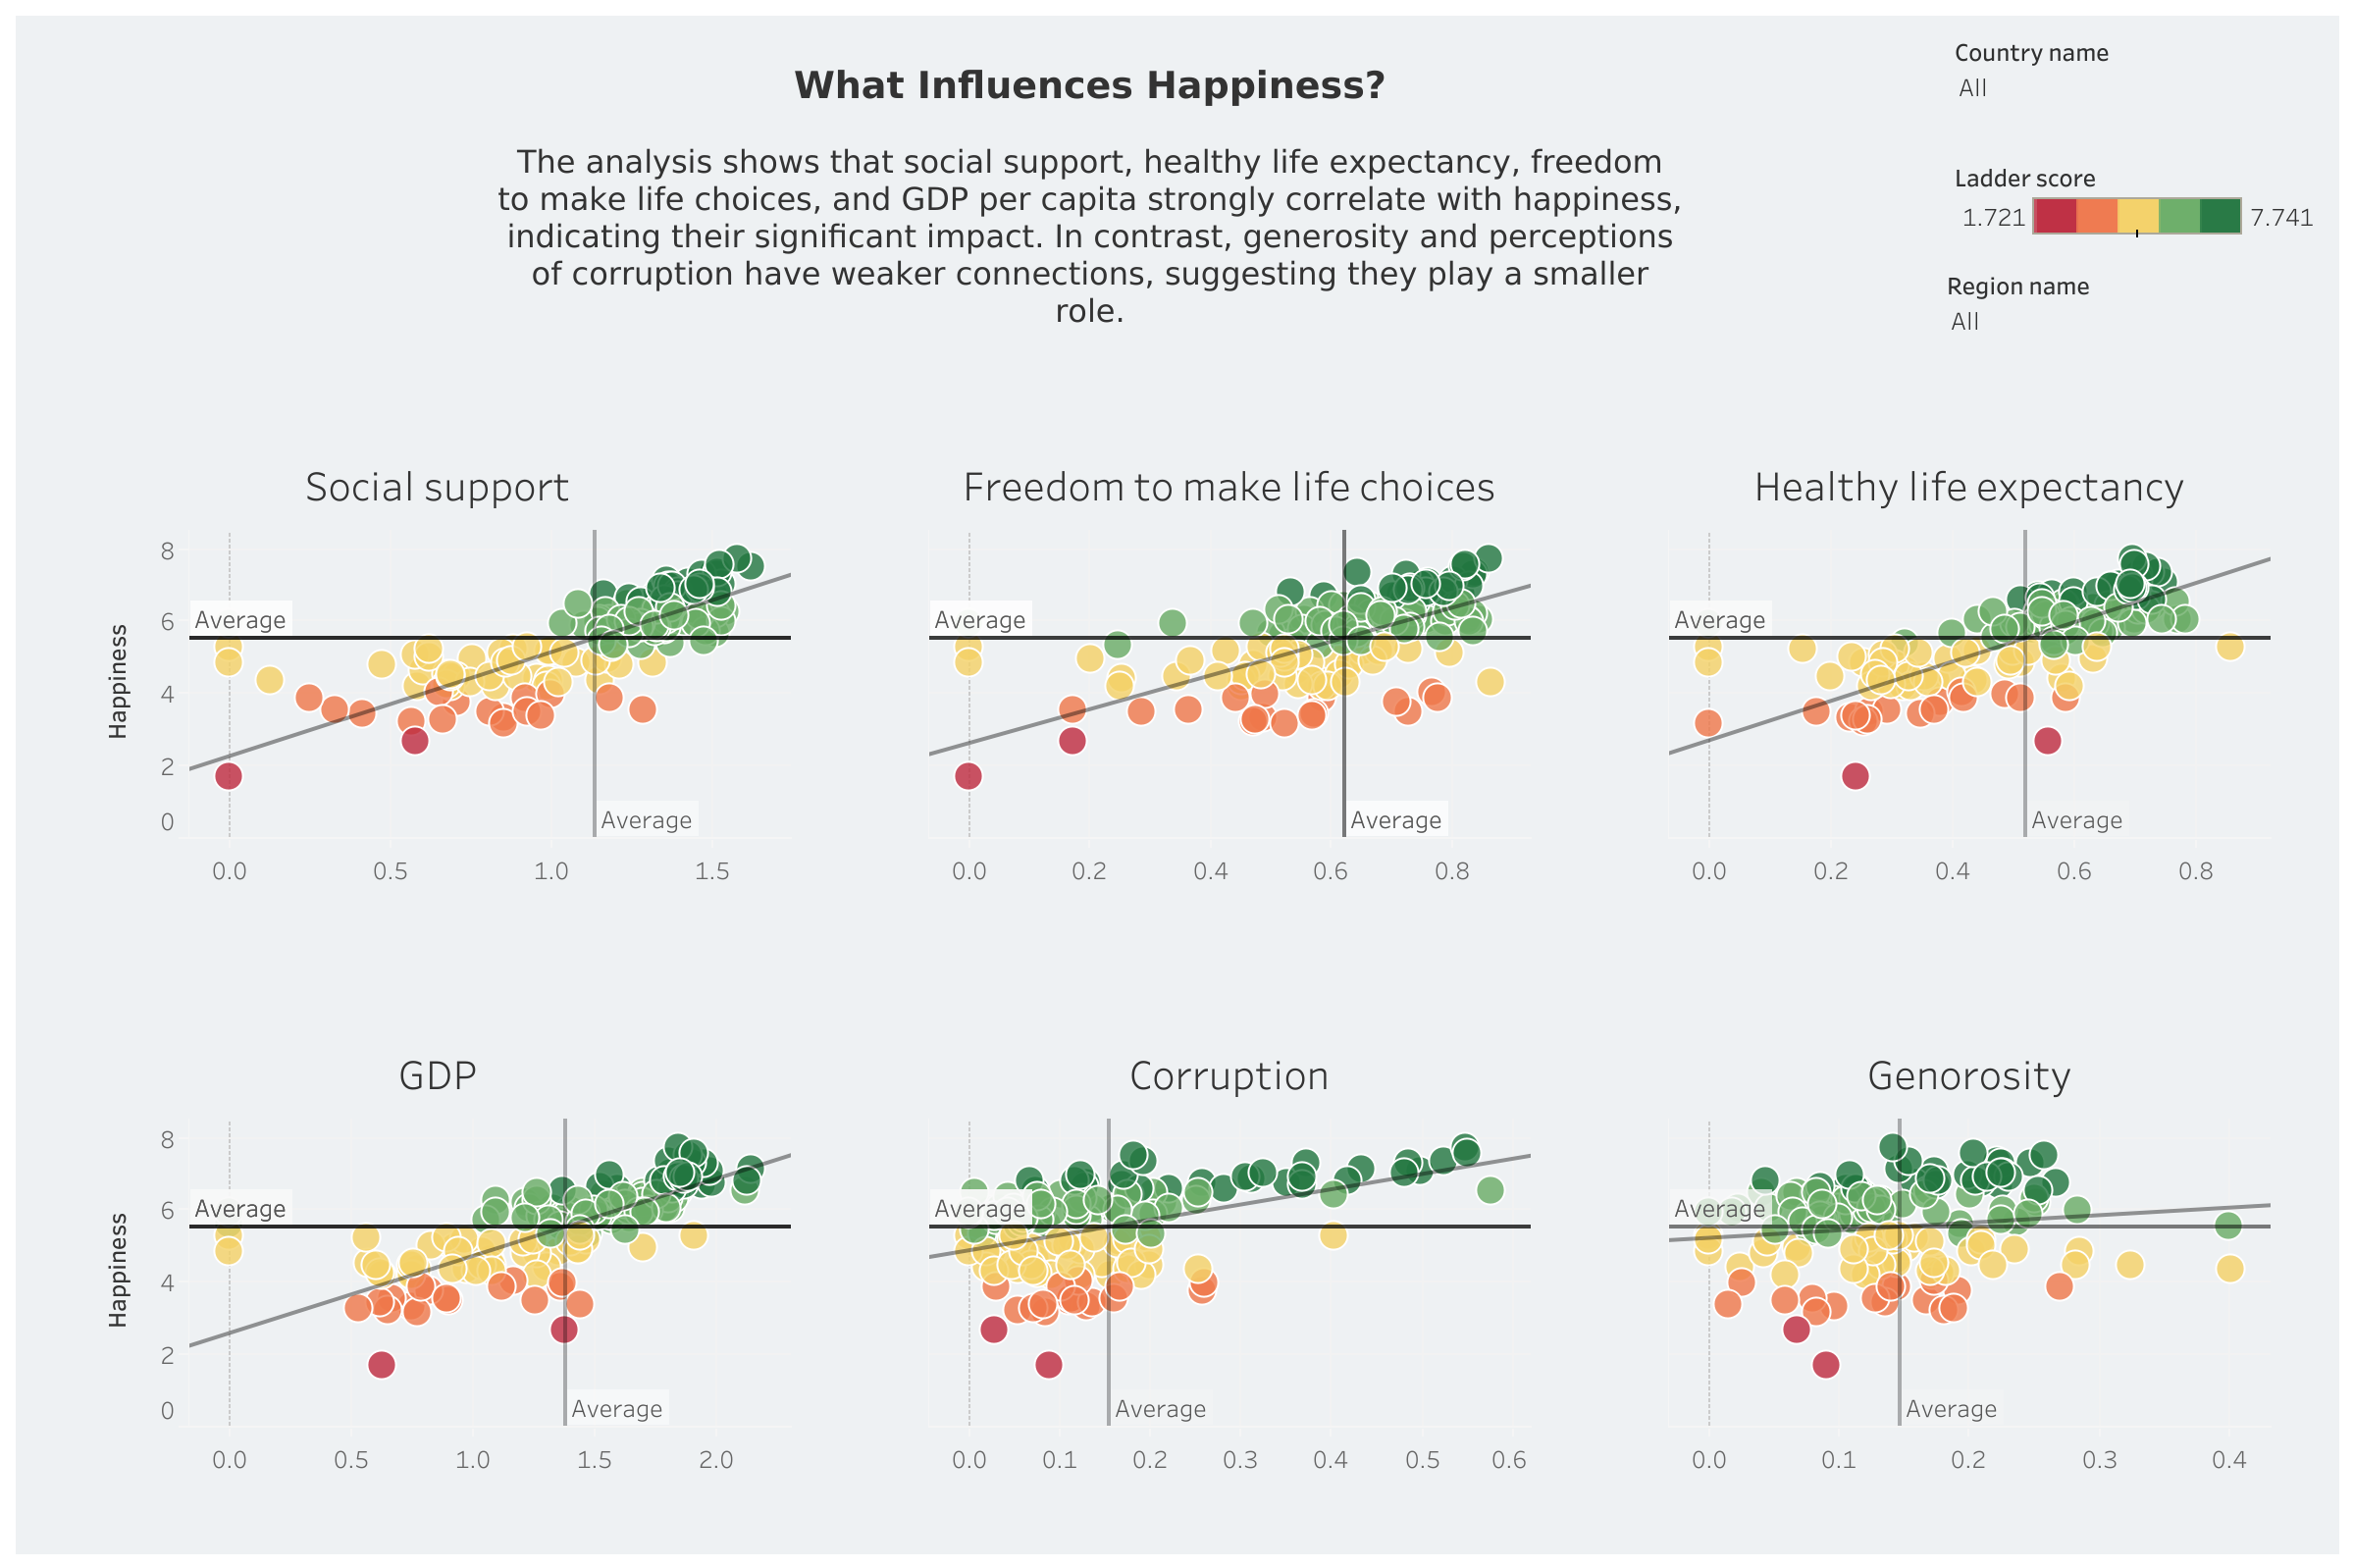

The page's visual inventory and layout, read from the dashboard file:
{"tool":"tableau","page":{"name":"Dashboard 2","canvas":[1200,800],"ordinal":0},"visuals":[{"type":"blank","box":[8,8,239,184]},{"type":"text","box":[247,8,617,184]},{"type":"blank","box":[864,8,124,184]},{"type":"filter","title":"Corruption","param":"[federated.1d7vx2g0eqtf7i1b3uuz312nycjj].[none:Country name:nk]","box":[988,8,204,61.3]},{"type":"legend","title":"Social support","param":"[federated.1d7vx2g0eqtf7i1b3uuz312nycjj].[sum:Ladder score:qk]","box":[988,69.3,204,61.3]},{"type":"filter","title":"Social support","param":"[federated.1d7vx2g0eqtf7i1b3uuz312nycjj].[none:UNSD Region name:nk]","box":[988,130.7,204,61.3]},{"type":"worksheet","title":"Social support","mark":"Circle","rows":["Ladder score"],"cols":[" Social support"],"box":[8,192,430,300]},{"type":"worksheet","title":"Freedom to make life choices","mark":"Circle","rows":["Ladder score"],"cols":[" Freedom to make life choices"],"box":[438,192,377,300]},{"type":"worksheet","title":"Healthy life expectancy","mark":"Circle","rows":["Ladder score"],"cols":[" Healthy life expectancy"],"box":[815,192,377,300]},{"type":"worksheet","title":"GDP","mark":"Circle","rows":["Ladder score"],"cols":[" Log GDP per capita"],"box":[8,492,430,300]},{"type":"worksheet","title":"Corruption","mark":"Circle","rows":["Ladder score"],"cols":[" Perceptions of corruption"],"box":[438,492,377,300]},{"type":"worksheet","title":"Genorosity","mark":"Circle","rows":["Ladder score"],"cols":[" Generosity"],"box":[815,492,377,300]}]}

Visuals, with their boxes in screenshot pixels (x1, y1, x2, y2), scaled from the page's 1200x800 canvas onto the 2353x1568 screenshot:
blank: [16,16,485,377]
text: [485,16,1695,377]
blank: [1695,16,1937,377]
"Corruption" filter: [1937,16,2337,135]
"Social support" legend: [1937,135,2337,256]
"Social support" filter: [1937,256,2337,377]
"Social support" worksheet (Circle marks): [16,377,859,965]
"Freedom to make life choices" worksheet (Circle marks): [859,377,1598,965]
"Healthy life expectancy" worksheet (Circle marks): [1598,377,2337,965]
"GDP" worksheet (Circle marks): [16,965,859,1552]
"Corruption" worksheet (Circle marks): [859,965,1598,1552]
"Genorosity" worksheet (Circle marks): [1598,965,2337,1552]
